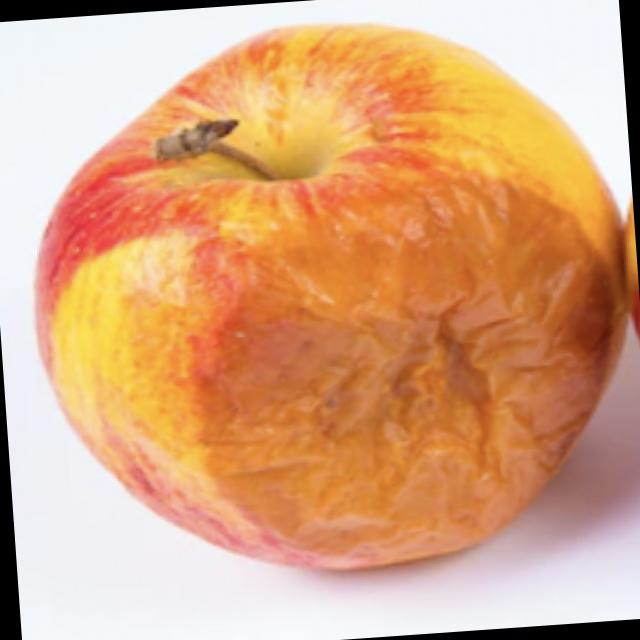rotten_apple: (24, 9, 640, 590)
